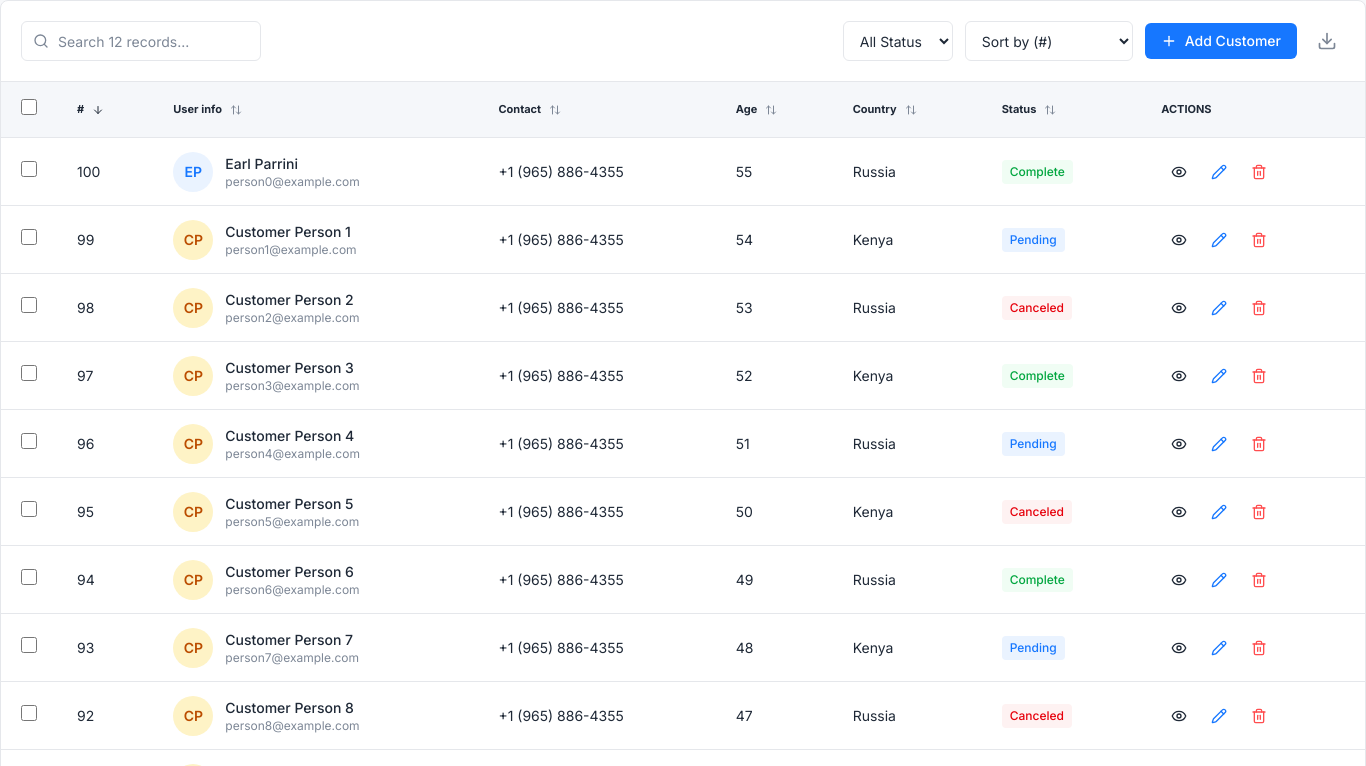
Test: Customer List › expands and collapses the customer profile without navigating
The image size is (1366, 766).
Click the button named "View customer 100". click: (1179, 172)
box: [1161, 154, 1197, 190]
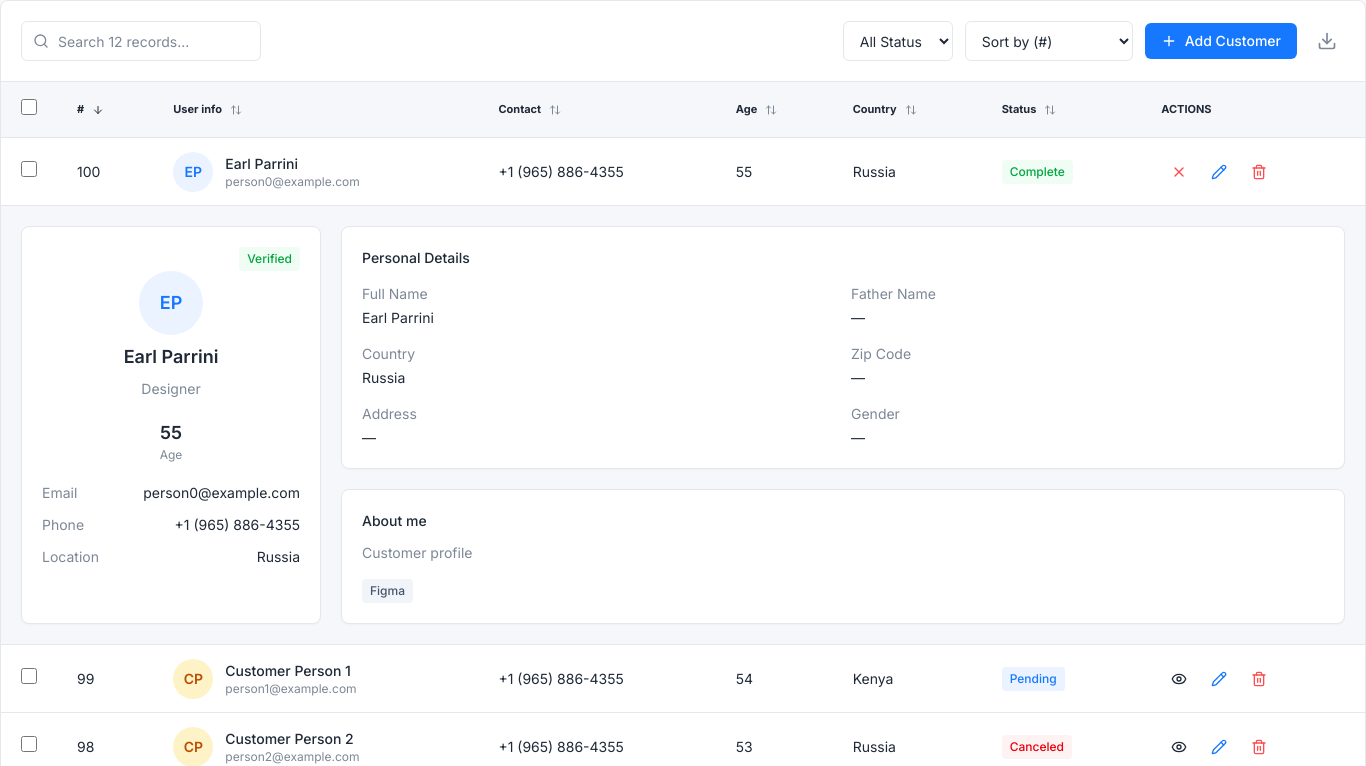
Check: the heading "Personal Details" is shown, box [362, 249, 470, 266]
Check: the text "Customer profile" is shown, box [362, 544, 472, 561]
Click the button named "View customer 100". click: (1179, 172)
box: [1161, 154, 1197, 190]
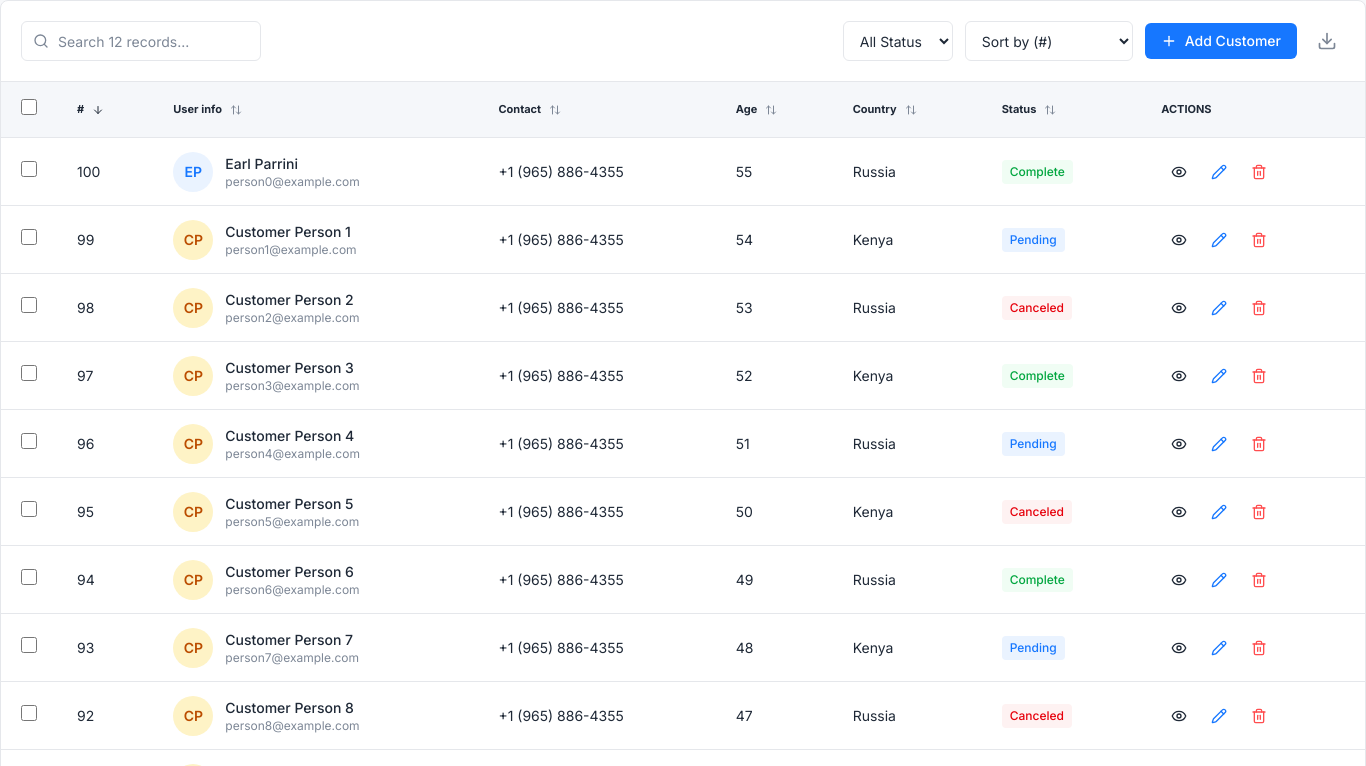
Check: the heading "Personal Details" is gone
